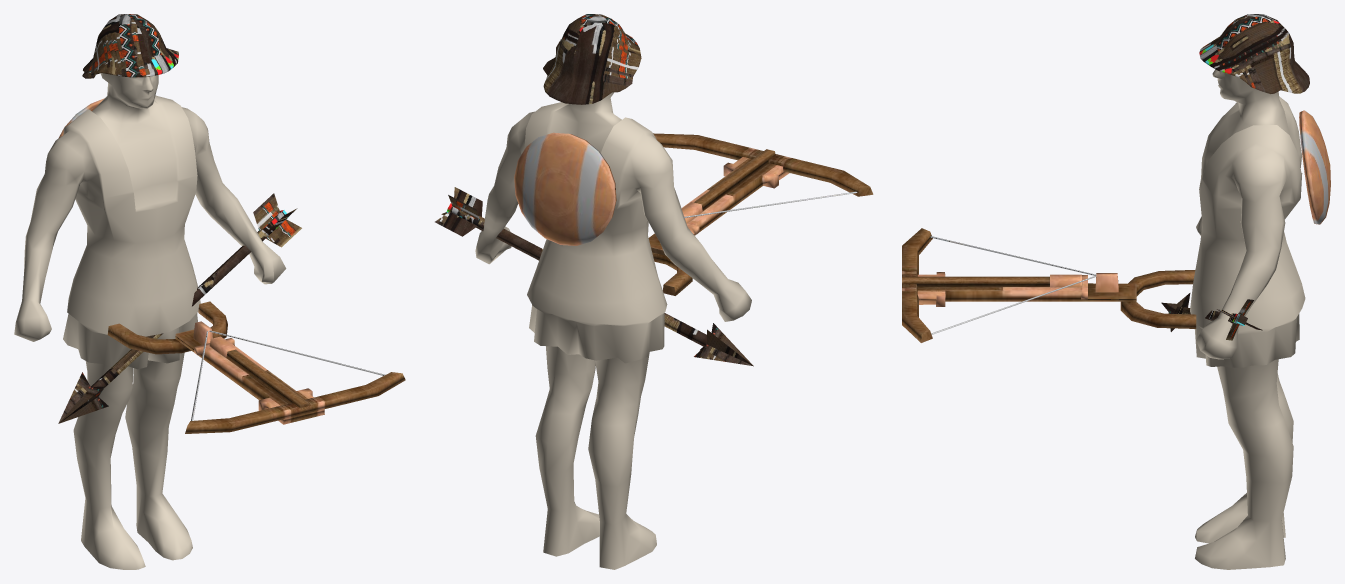
Rendered from 35-gastraphetoros.glb.
3 views of the same model, side by side, from view 1: azimuth 30°, elevation 25°; view 2: azimuth 150°, elevation 25°; view 3: azimuth 270°, elevation 25° (orthographic).
Size of the model in its own units: 1.25 by 2.13 by 1.56.
4 materials, 3 textured.
